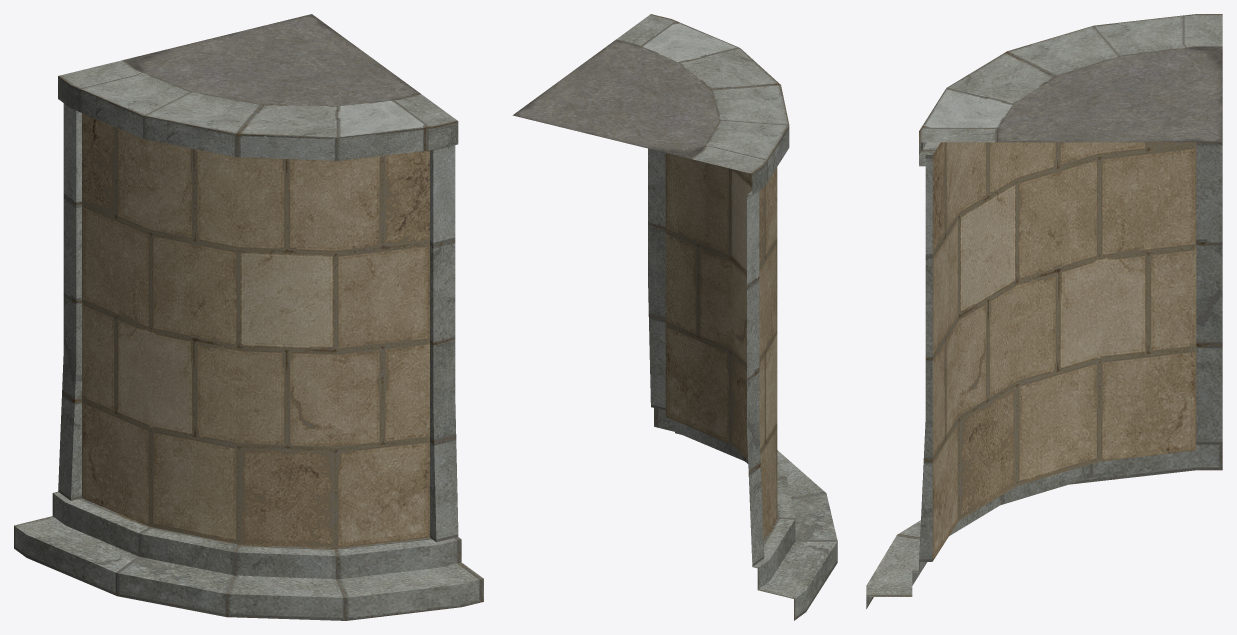
File: block_rnd_crn_rpt_1x1.fbx
3 views of the same model, side by side, from view 1: azimuth 30°, elevation 25°; view 2: azimuth 150°, elevation 25°; view 3: azimuth 270°, elevation 25° (orthographic). The views are drawn at different scales.
Parts seen in each view (by area): view 1: block_rnd_crn_rpt_1x1; view 2: block_rnd_crn_rpt_1x1; view 3: block_rnd_crn_rpt_1x1.
Part boxes in pixels (x1,y1,x2,y2): block_rnd_crn_rpt_1x1: [14, 14, 483, 620]; block_rnd_crn_rpt_1x1: [512, 14, 837, 620]; block_rnd_crn_rpt_1x1: [866, 14, 1222, 608].
Bounding box in the file's own units: 135 × 200 × 135.
